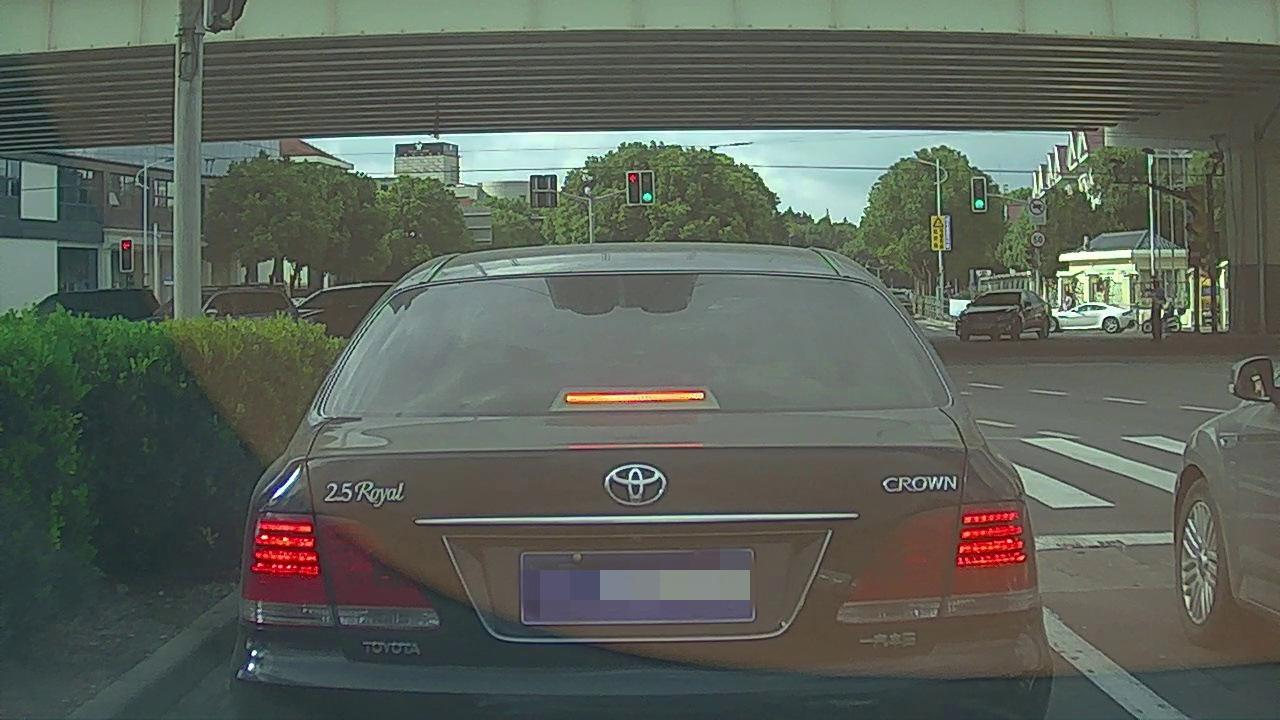traffic_light: (626, 173, 640, 205), (641, 172, 655, 202), (973, 179, 984, 211)
